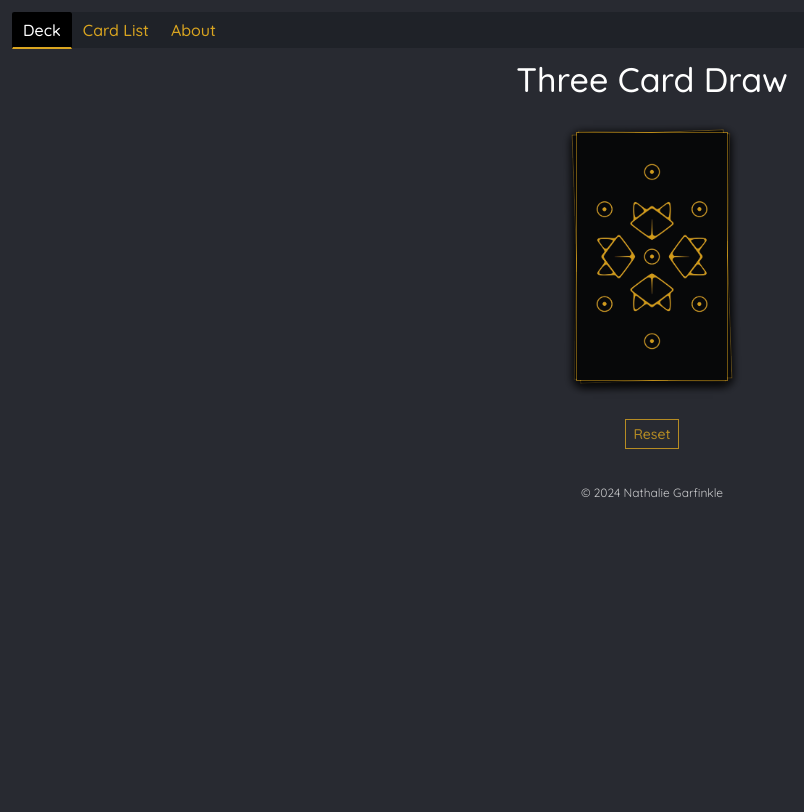
deck is reset to shuffled and undrawn
Click the button named "Click to draw card from Tarot Deck".
click(652, 260)  # box [560,131,744,389]
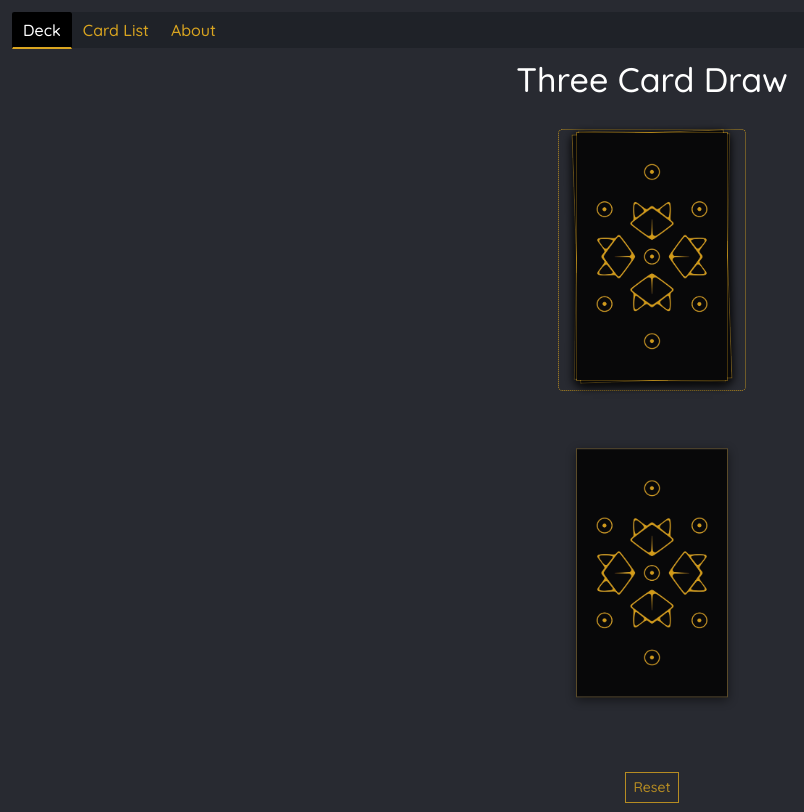
Click the button "Reset".
click(652, 787)  # box [625,772,679,803]
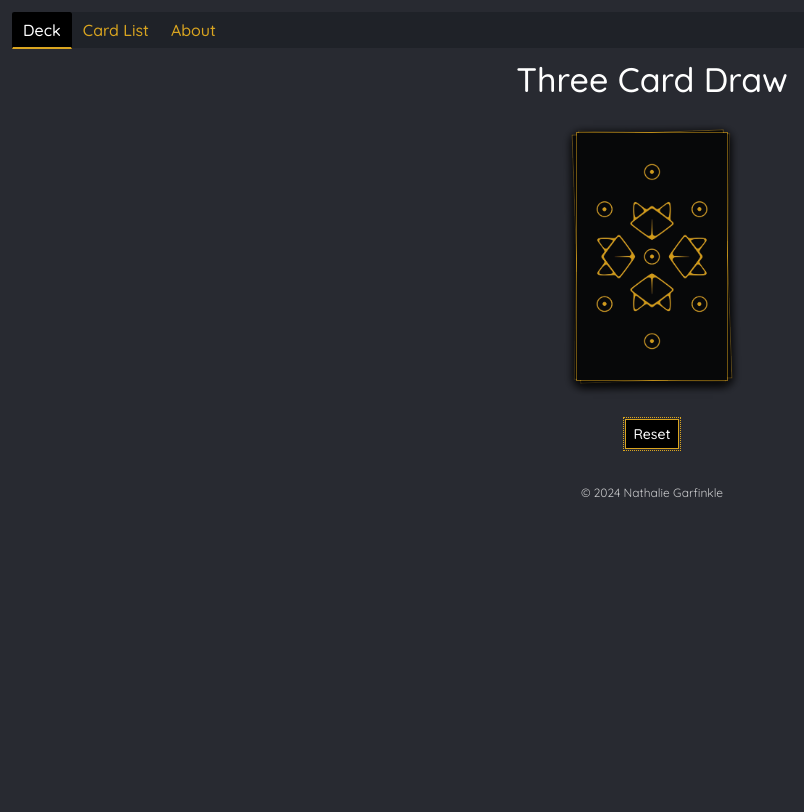
Now the heading "Past" is gone
